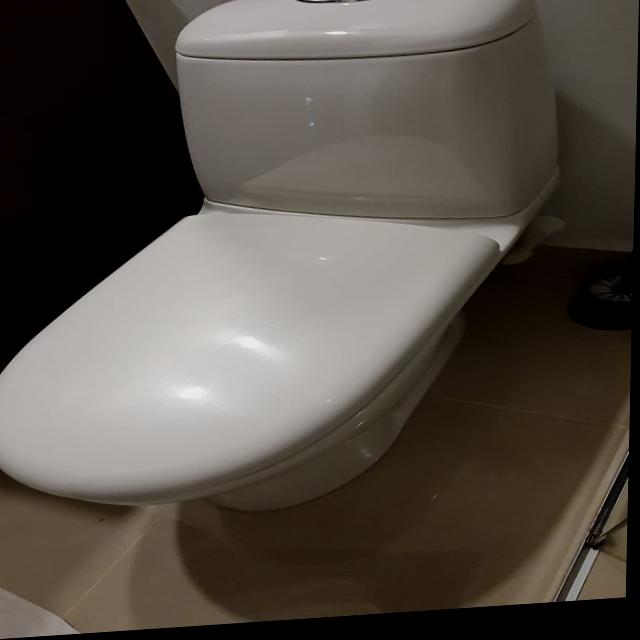toilet: (0, 0, 567, 531)
